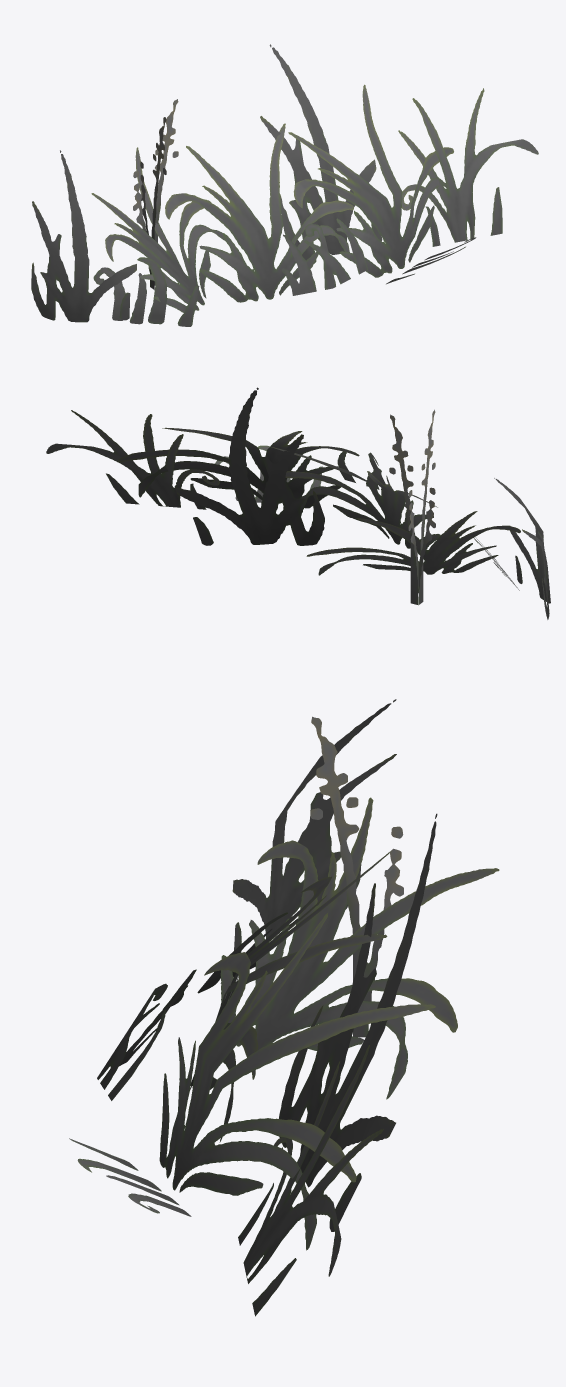
The model's file is loyalismwood_grass_hs.FBX.
3 views of the same model, one above another, from view 1: azimuth 30°, elevation 25°; view 2: azimuth 150°, elevation 25°; view 3: azimuth 270°, elevation 25° (orthographic). The views are drawn at different scales.
Parts seen in each view (by area): view 1: loyalismwood_grass04; view 2: loyalismwood_grass04; view 3: loyalismwood_grass04.
Part boxes in pixels (bbox=[...]): loyalismwood_grass04: bbox=[31, 44, 538, 326]; loyalismwood_grass04: bbox=[46, 387, 550, 619]; loyalismwood_grass04: bbox=[69, 699, 499, 1316].
Size of the model in its own units: 356 by 181 by 157.
